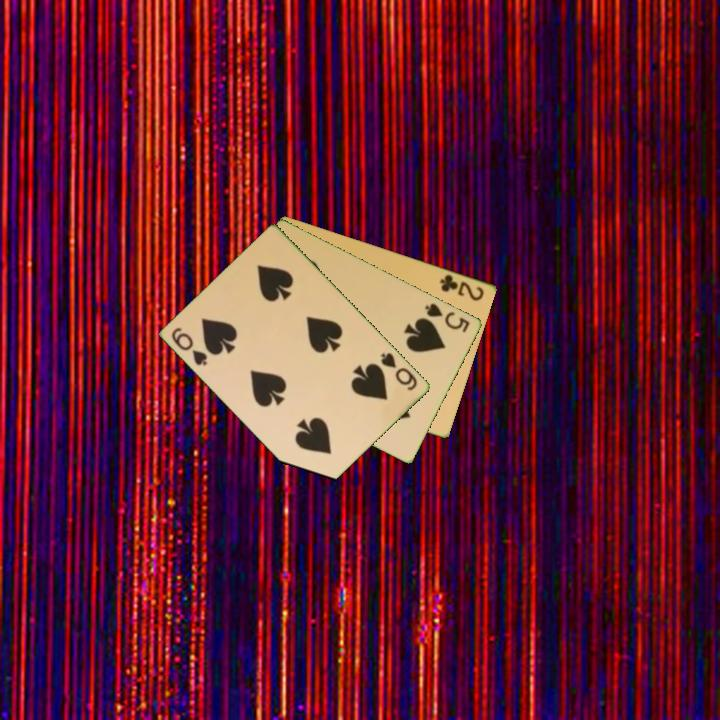2c: (436, 271, 487, 304)
5s: (421, 299, 473, 336)
6s: (377, 349, 421, 393), (168, 324, 211, 369)
